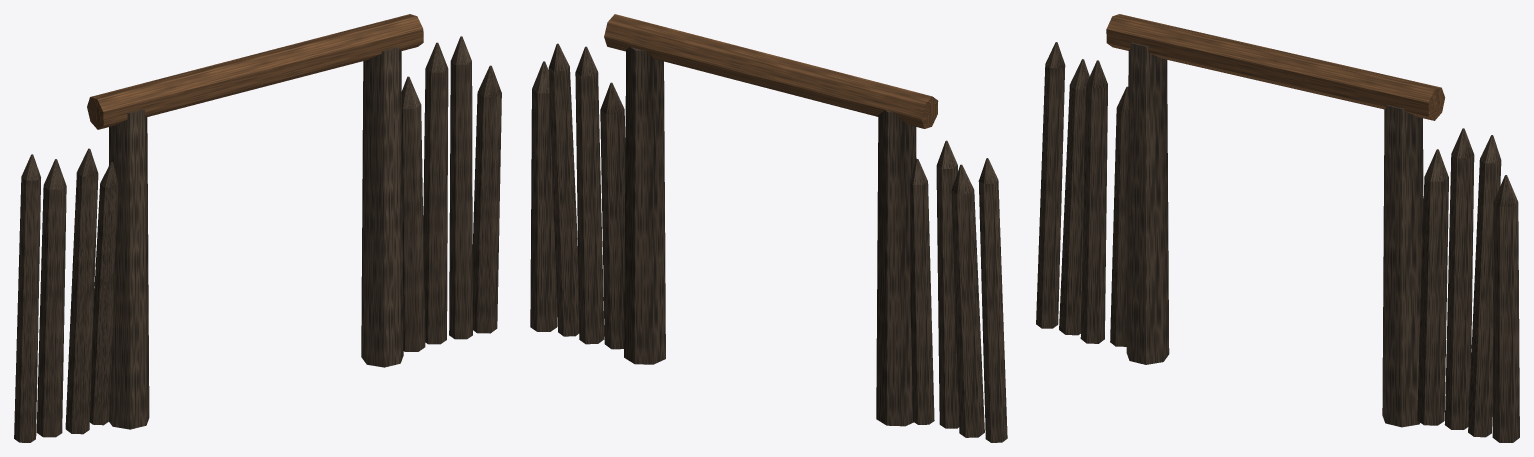
The model's file is palizzata_varco.glb.
3 renders of one model, left to right at view 1: azimuth 30°, elevation 25°; view 2: azimuth 150°, elevation 25°; view 3: azimuth 330°, elevation 25°, orthographic.
Visible parts, largest first — view 1: palizzata_varco; view 2: palizzata_varco; view 3: palizzata_varco.
Boxes of the visible parts, x1,y1,x2,y2 form: palizzata_varco: (14, 14, 501, 442); palizzata_varco: (530, 14, 1007, 442); palizzata_varco: (1036, 14, 1519, 442).
Size of the model in its own units: 5.08 by 3.41 by 0.3825.
Materials: 2 (2 with a texture image).
